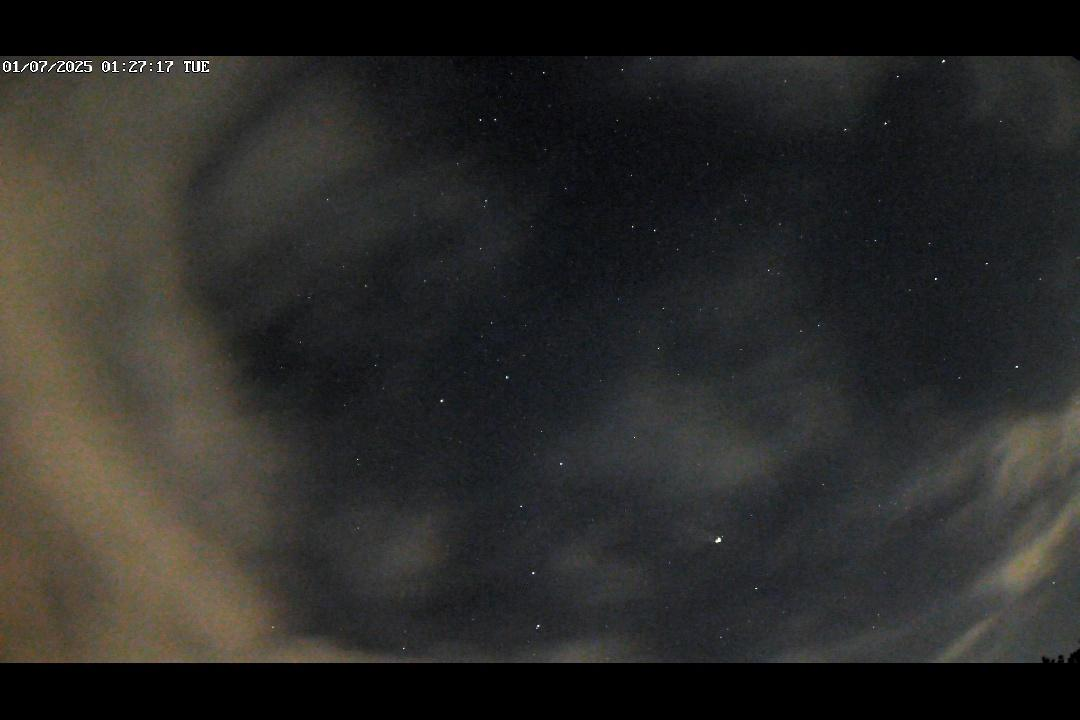Plane: (669, 523, 738, 550)
